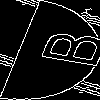B: (25, 25, 100, 70)
